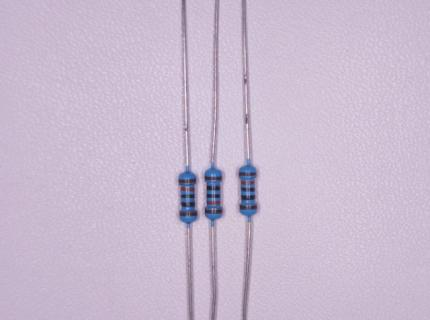Black band: (241, 195, 255, 200), (241, 187, 255, 192), (181, 202, 194, 207), (181, 194, 194, 199), (207, 185, 220, 190), (207, 194, 220, 198)
Brown band: (205, 209, 223, 215), (179, 211, 198, 216), (178, 178, 196, 183), (239, 205, 257, 210), (205, 176, 222, 180), (239, 172, 256, 176)
Orange band: (180, 187, 195, 191), (241, 181, 254, 185), (207, 201, 220, 204)
